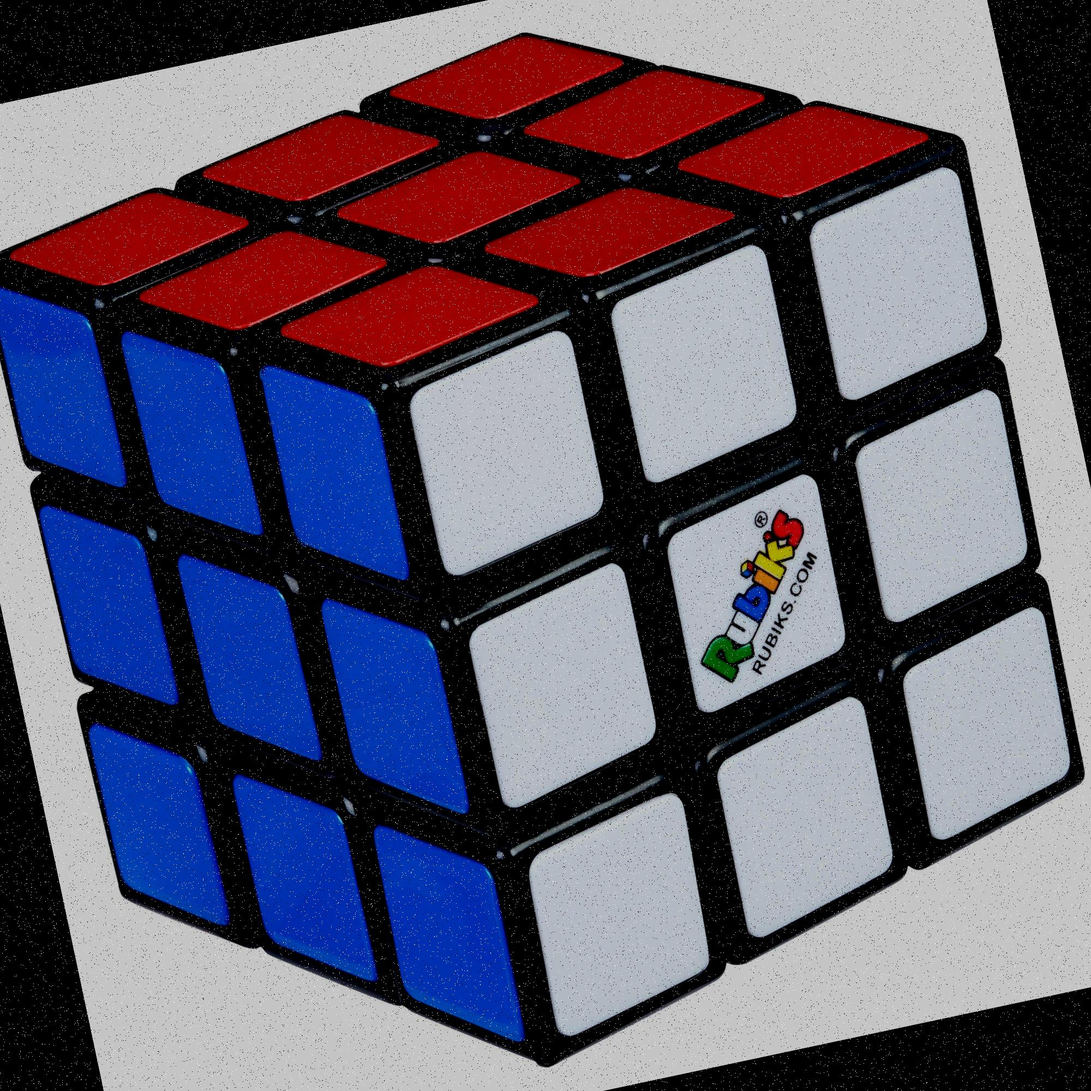rubiks_cube: (0, 35, 1071, 1042)
